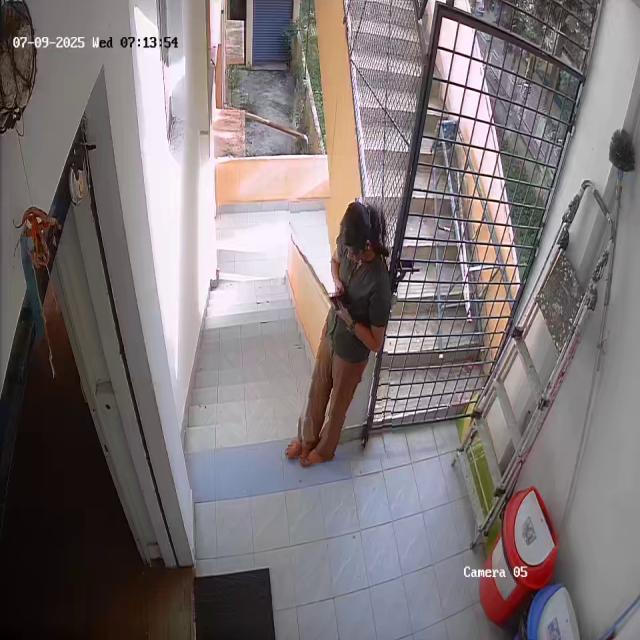person: (293, 197, 390, 462)
